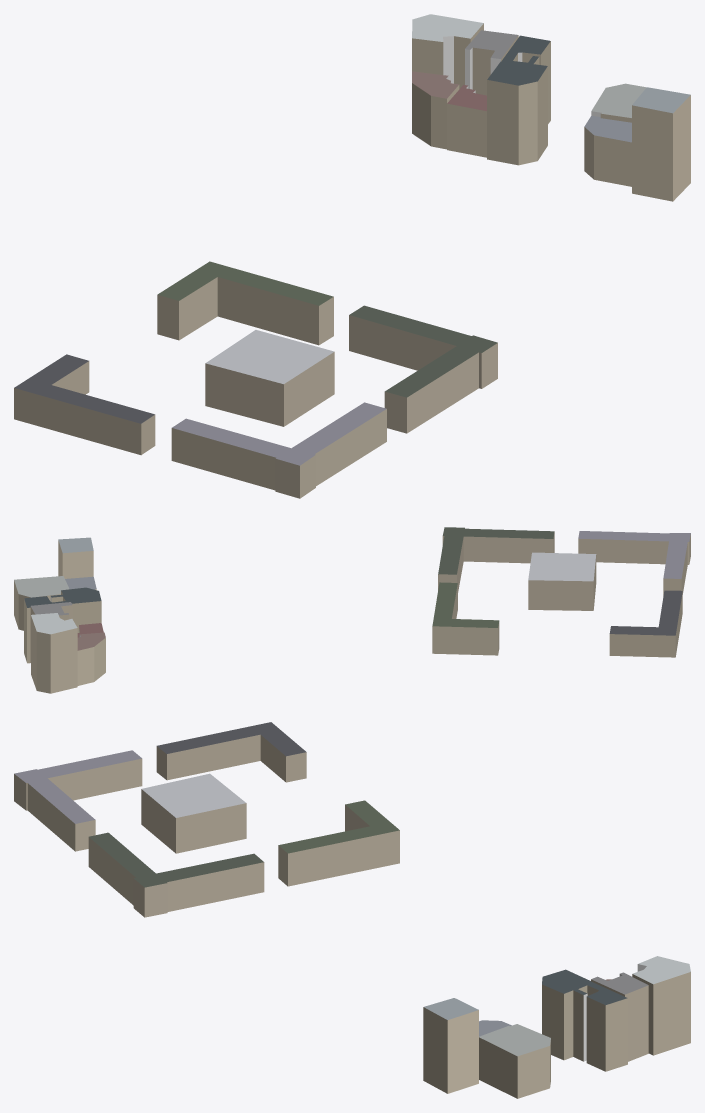
3 renders of one model, top to bottom at view 1: azimuth 30°, elevation 25°; view 2: azimuth 150°, elevation 25°; view 3: azimuth 270°, elevation 25°, orthographic. The views are drawn at different scales.
Visible parts, largest first — view 1: tuile; view 2: tuile; view 3: tuile.
Part boxes in pixels (x1,y1,x2,y2): tuile: (14,14,690,498); tuile: (14,527,690,693); tuile: (14,722,690,1098).
Bounding box in the file's own units: 210 × 22.56 × 183.
